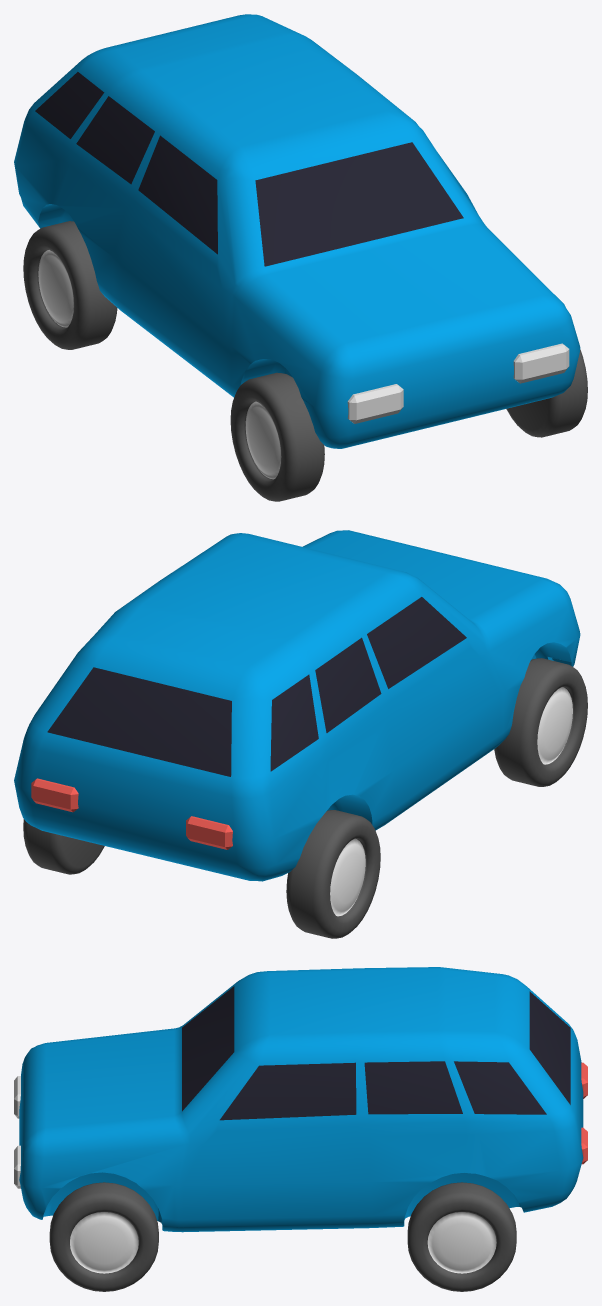
File: MiddleCar.fbx
3 views of the same model, one above another, from view 1: azimuth 30°, elevation 25°; view 2: azimuth 150°, elevation 25°; view 3: azimuth 270°, elevation 25° (orthographic). The views are drawn at different scales.
Visible parts, largest first — view 1: Body, WheelBackL.002, FrontLightL.001, FrontLightR.001; view 2: Body, WheelBackL.002, RearLightL.001, RearLightR.001; view 3: Body, WheelBackL.002.
Part boxes in pixels (left/top/right/bottom): Body: left=14, top=14, right=580, bottom=448; WheelBackL.002: left=23, top=221, right=587, bottom=501; FrontLightL.001: left=513, top=343, right=569, bottom=383; FrontLightR.001: left=347, top=384, right=403, bottom=423; Body: left=14, top=530, right=580, bottom=881; WheelBackL.002: left=23, top=658, right=587, bottom=938; RearLightL.001: left=31, top=778, right=78, bottom=812; RearLightR.001: left=186, top=816, right=232, bottom=849; Body: left=19, top=967, right=583, bottom=1232; WheelBackL.002: left=49, top=1182, right=516, bottom=1291.
Bounding box in the file's own units: 1.27 × 1.08 × 2.43.
